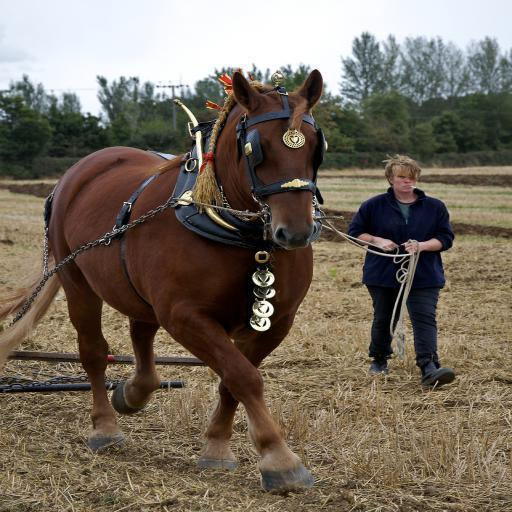horse: (0, 68, 324, 496)
